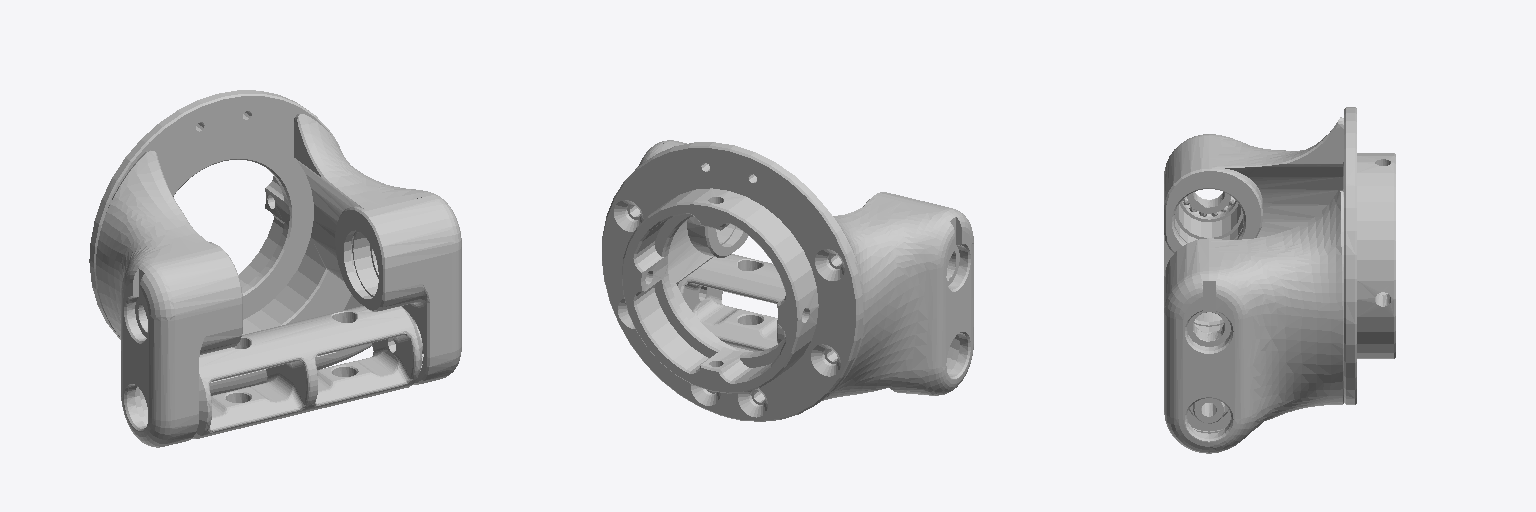
The model's file is right_hand_pitch_link.obj.
3 renders of one model, left to right at view 1: azimuth 30°, elevation 25°; view 2: azimuth 150°, elevation 25°; view 3: azimuth 270°, elevation 25°, orthographic.
Parts seen in each view (by area): view 1: right_hand_pitch_link; view 2: right_hand_pitch_link; view 3: right_hand_pitch_link.
Part boxes in pixels (x1,y1,x2,y2): right_hand_pitch_link: (89, 90, 461, 447); right_hand_pitch_link: (602, 140, 973, 421); right_hand_pitch_link: (1164, 107, 1395, 453).
Bounding box in the file's own units: 0.0556 × 0.0461 × 0.036.